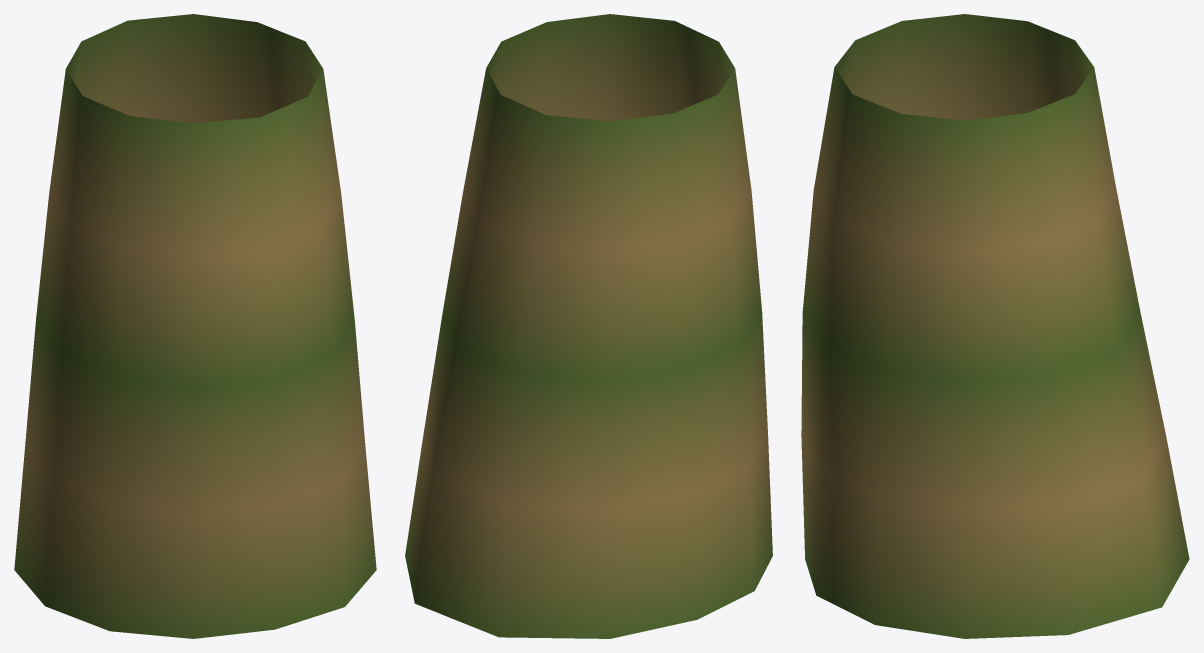
Rendered from turtle_armor_cuisse.L.glb.
3 views of the same model, side by side, from view 1: azimuth 30°, elevation 25°; view 2: azimuth 150°, elevation 25°; view 3: azimuth 270°, elevation 25° (orthographic). The views are drawn at different scales.
Visible parts, largest first — view 1: turtle_armor_cuisse.L; view 2: turtle_armor_cuisse.L; view 3: turtle_armor_cuisse.L.
Boxes of the visible parts, x1=… form: turtle_armor_cuisse.L: x1=14, y1=14, x2=376, y2=638; turtle_armor_cuisse.L: x1=405, y1=14, x2=772, y2=638; turtle_armor_cuisse.L: x1=801, y1=14, x2=1189, y2=638.
Bounding box in the file's own units: 0.2432 × 0.37 × 0.2644.
